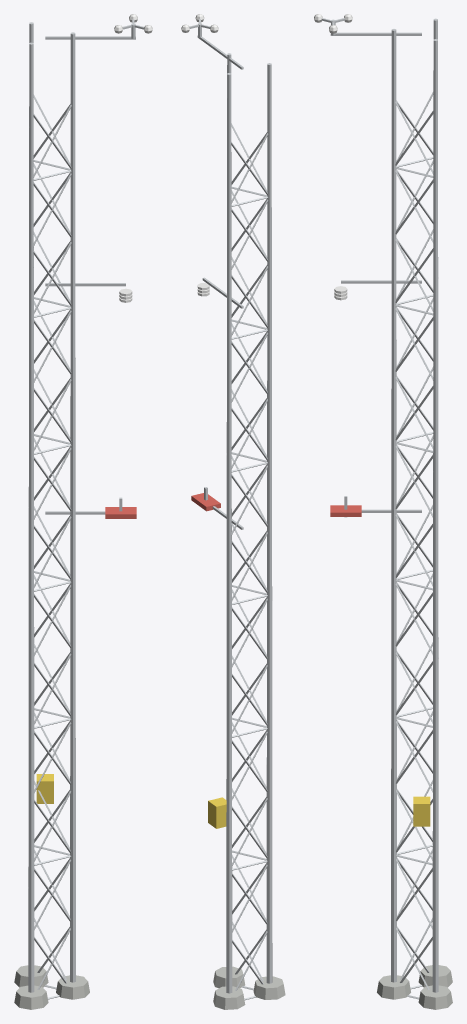
Rendered from wind-and-solar-energy-farm-met-mast-with-instruments-d1411a93__34054.glb.
3 views of the same model, side by side, from view 1: azimuth 90°, elevation 25°; view 2: azimuth 210°, elevation 25°; view 3: azimuth 270°, elevation 25° (orthographic). The views are drawn at different scales.
Visible parts, largest first — view 1: met-mast-with-instruments; view 2: met-mast-with-instruments; view 3: met-mast-with-instruments.
Boxes of the visible parts, box(x1,y1,x2,y2) form: met-mast-with-instruments: box(14, 22, 136, 1009); met-mast-with-instruments: box(191, 35, 285, 1009); met-mast-with-instruments: box(330, 18, 452, 1009).
Size of the model in its own units: 1.63 by 21.28 by 2.75.
